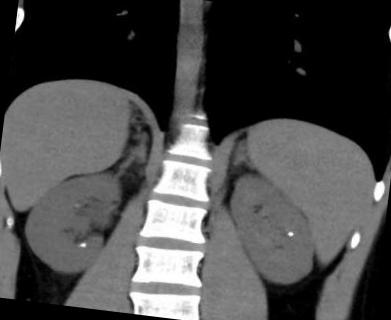Tas_Var: (284, 227, 296, 240), (77, 240, 88, 248)
